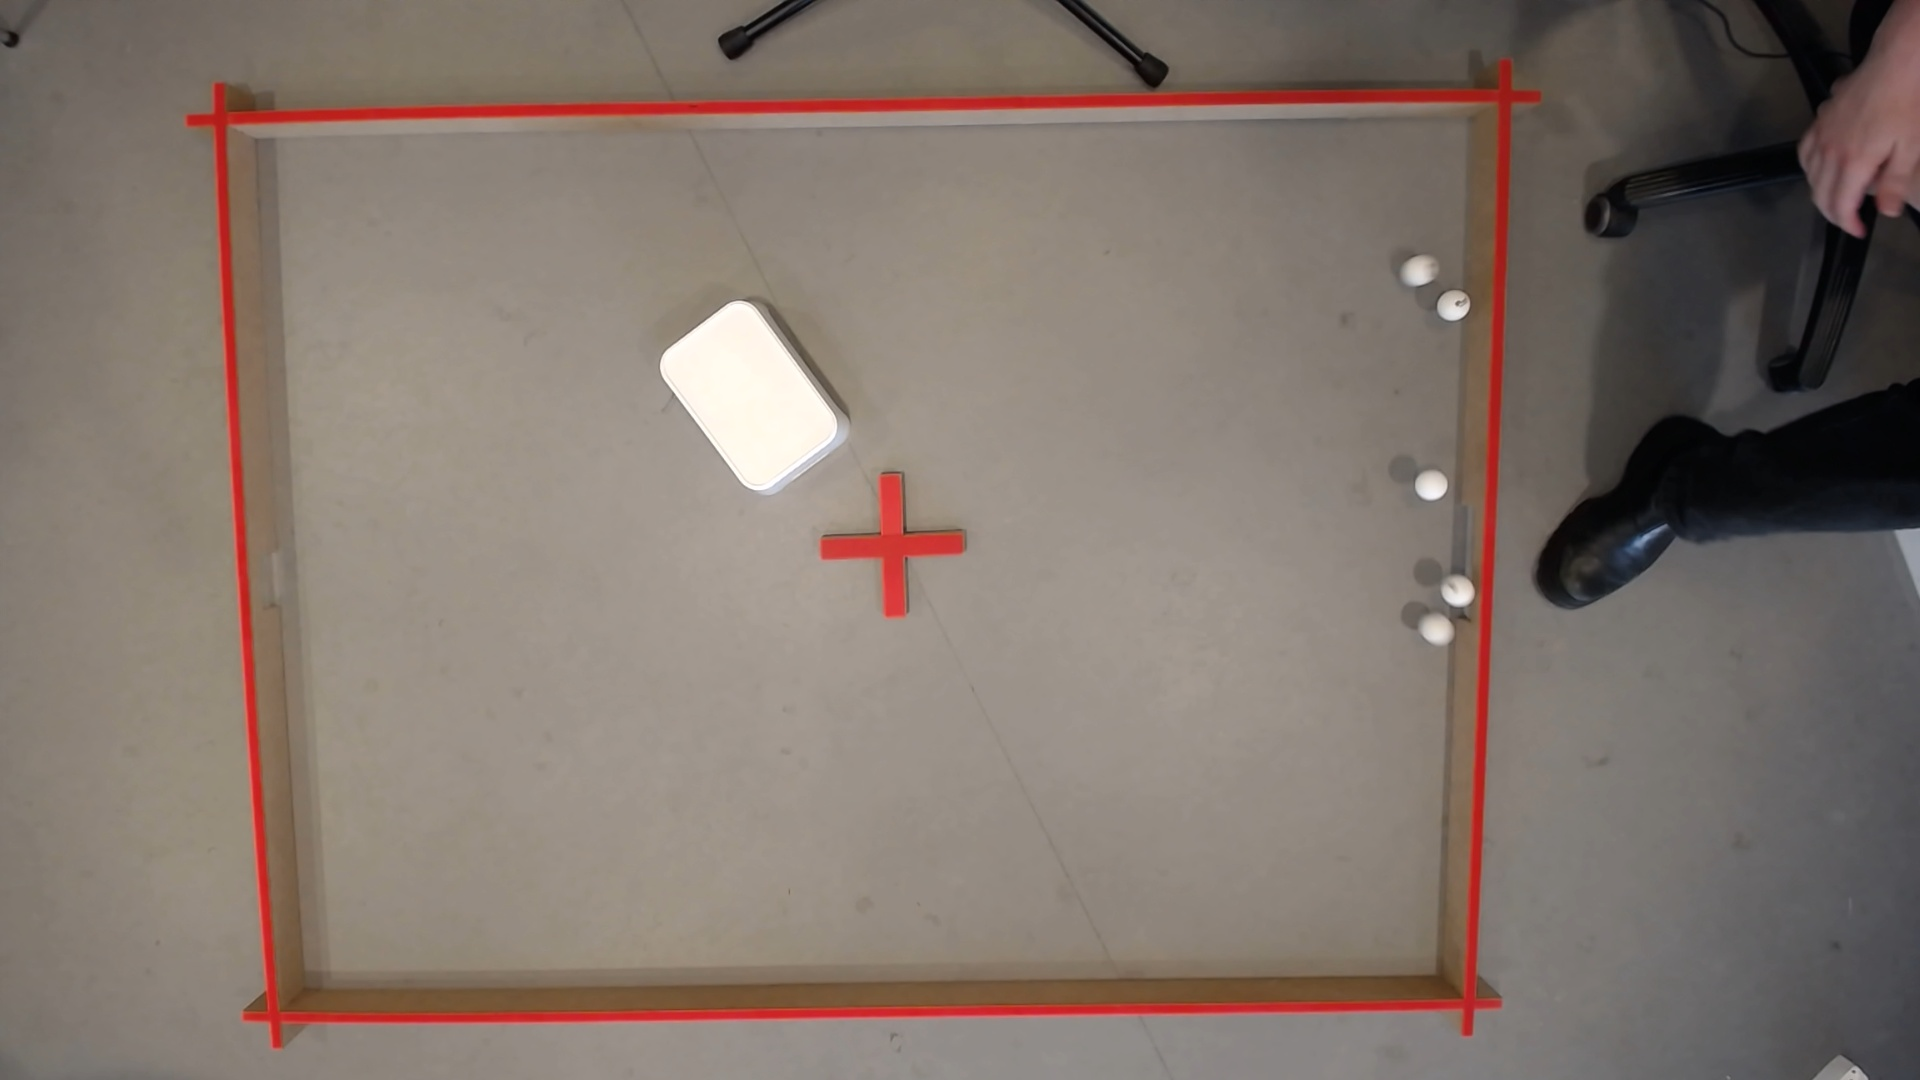balls: (649, 290, 852, 505), (1411, 467, 1452, 505), (1439, 574, 1478, 612), (1436, 293, 1470, 326), (1423, 618, 1449, 642)
car: (1402, 257, 1432, 287)
